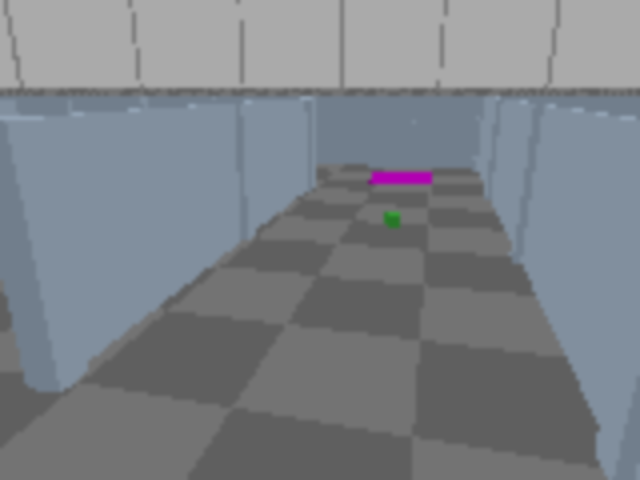goal_zone: (367, 171, 433, 186)
